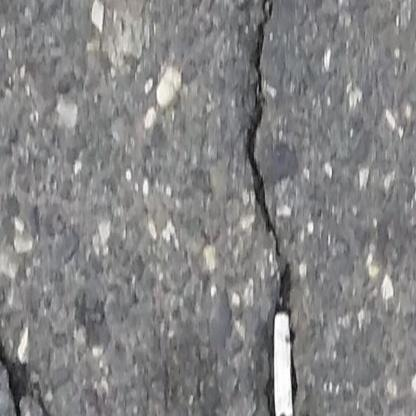Cracks: (243, 0, 321, 416), (0, 180, 55, 416)
